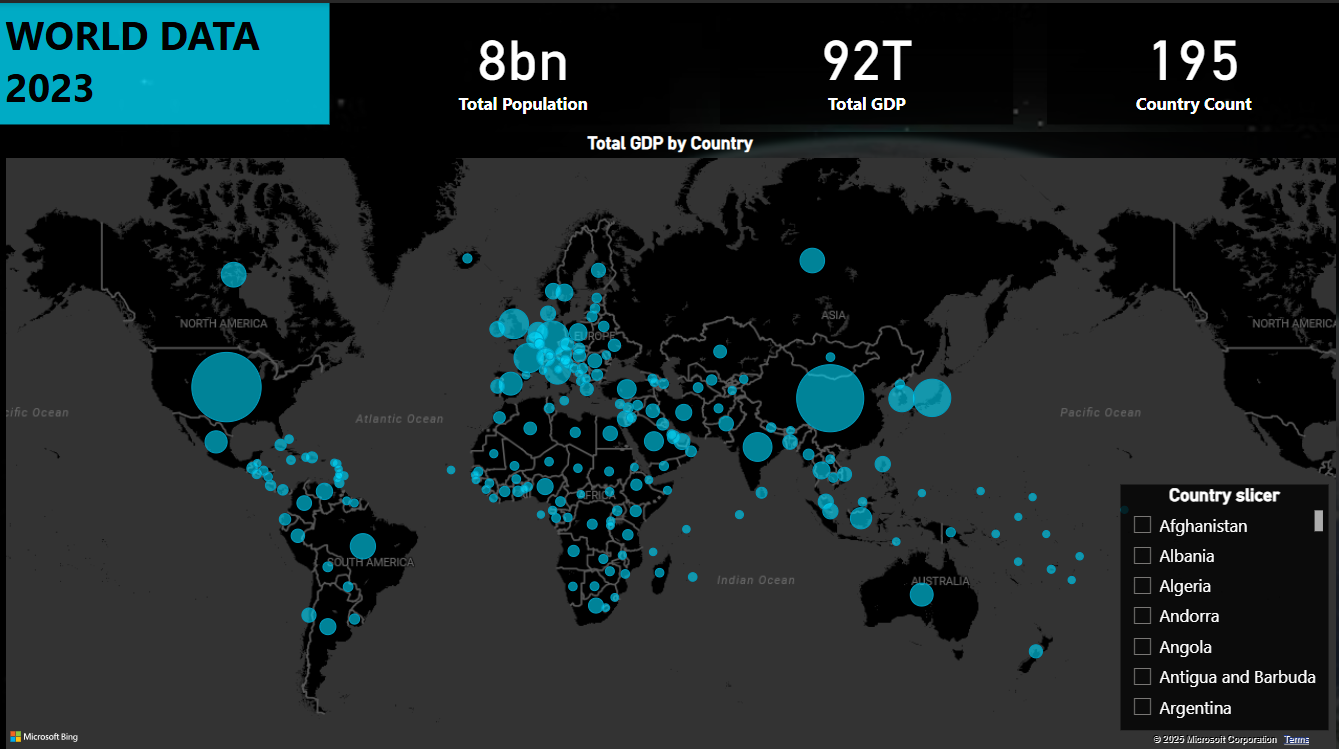

The page's visual inventory and layout, read from the dashboard file:
{"tool":"powerbi","page":{"name":"Map ","canvas":[1280,720],"ordinal":1},"visuals":[{"type":"map","fields":{"Size":["Measure.Total GDP"],"Category":["World data.Country"]},"box":[0,123.6,1280.1,596.9],"z":0},{"type":"textbox","box":[0,0,314.7,116],"z":1000},{"type":"card","fields":{"Values":["Measure.Total Population"]},"box":[359.5,0,279.9,116],"z":2000},{"type":"card","fields":{"Values":["Measure.Total GDP"]},"box":[687.4,0,279.9,116],"z":3000},{"type":"card","fields":{"Values":["Measure.Country Count"]},"box":[1000.1,0,279.9,116],"z":4000},{"type":"slicer","title":"Country slicer","fields":{"Values":["World data.Country"]},"box":[1069.4,459.7,198.5,234.9],"z":5500}]}

Visuals, with their boxes in screenshot pixels (x1, y1, x2, y2), scaled from the page's 1280x720 canvas onto the 1339x749 screenshot:
map - Measure.Total GDP x World data.Country: left=0, top=129, right=1338, bottom=748
textbox: left=0, top=0, right=329, bottom=121
card - Measure.Total Population: left=376, top=0, right=669, bottom=121
card - Measure.Total GDP: left=719, top=0, right=1012, bottom=121
card - Measure.Country Count: left=1046, top=0, right=1338, bottom=121
"Country slicer" slicer: left=1119, top=478, right=1326, bottom=723
